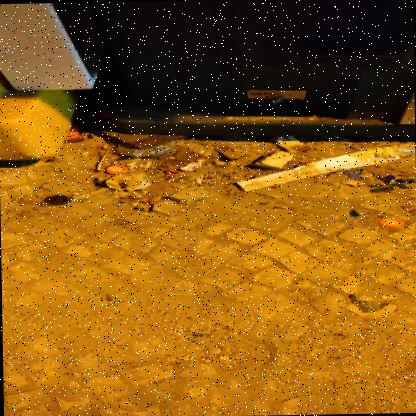Broken glass: (349, 209, 359, 216)
Corrugated carton: (236, 143, 408, 191)
Metal bottle cap: (408, 209, 415, 216)
Metal lid: (47, 193, 72, 205), (378, 217, 404, 228), (106, 165, 127, 174)
Other plastic: (179, 159, 203, 171)
Plastic film: (117, 138, 181, 156)
Unlabeled litter: (361, 172, 375, 178)
